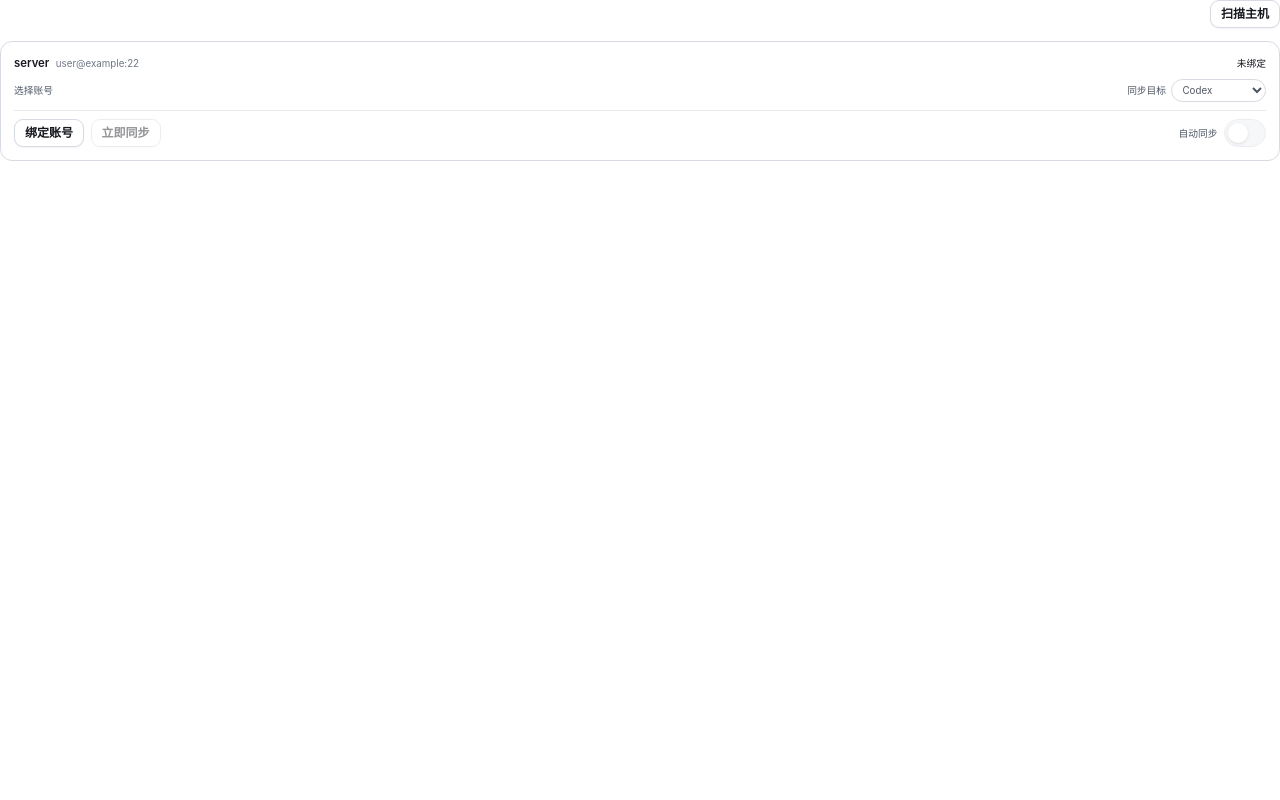
Test case: 账号分发 › 远端未安装 Codex 时显示不支持并禁止绑定保存
The width and height of the screenshot is (1280, 800).
Click the button "绑定账号".
click(49, 133)  # box [14, 119, 84, 147]
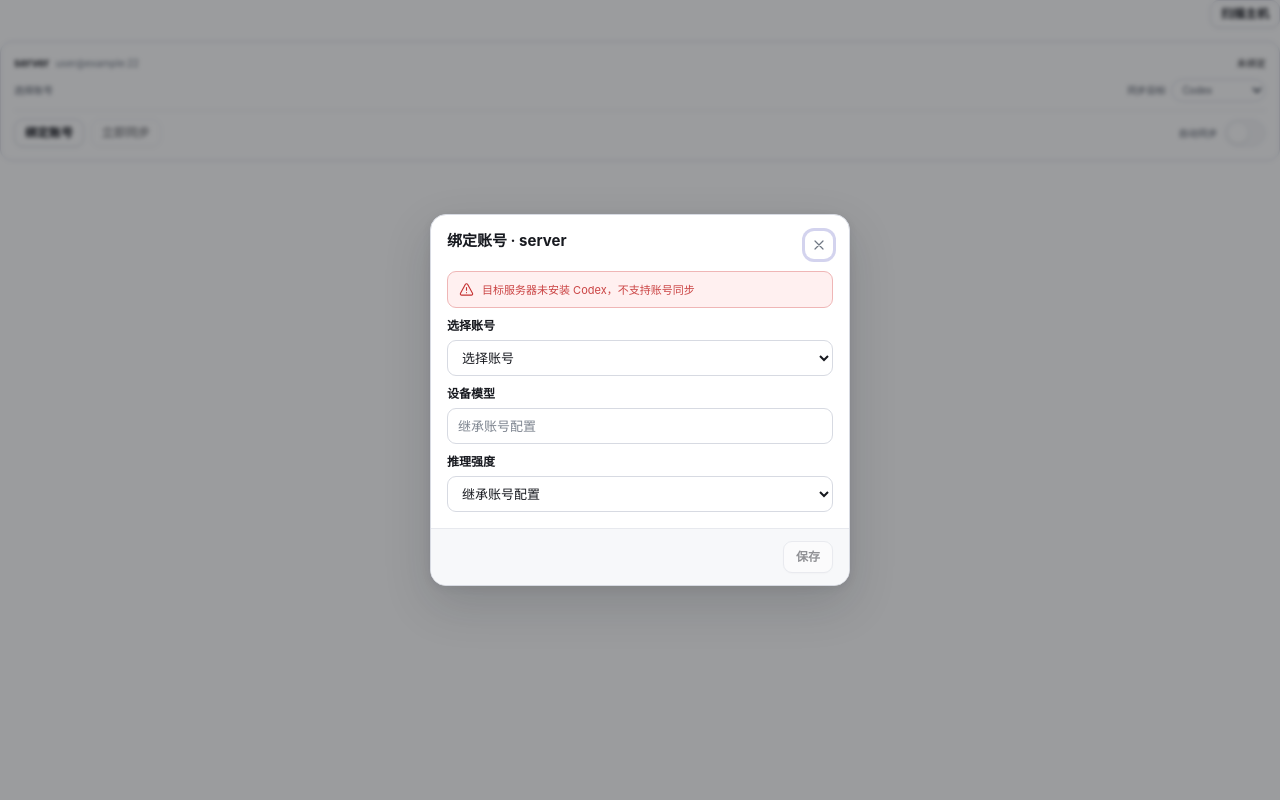
Now the text "目标服务器未安装 Codex，不支持账号同步" is shown, box [482, 283, 695, 297]
Now the button "保存" is disabled, box [783, 541, 833, 573]
